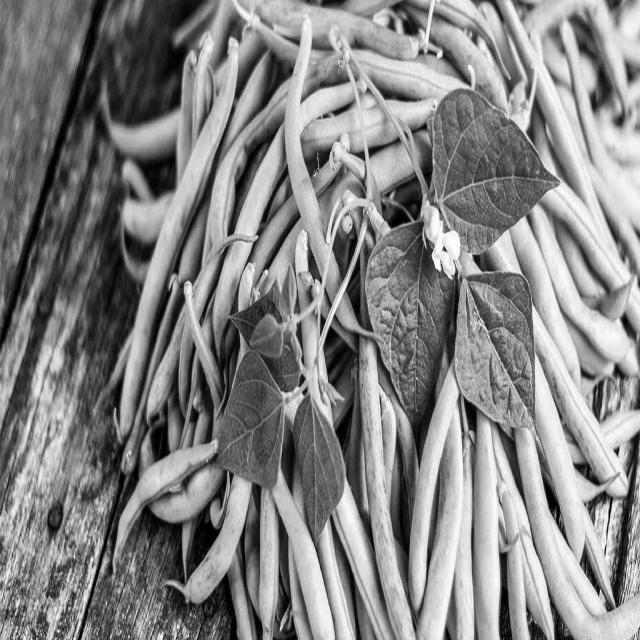Beans: (104, 0, 640, 640)
